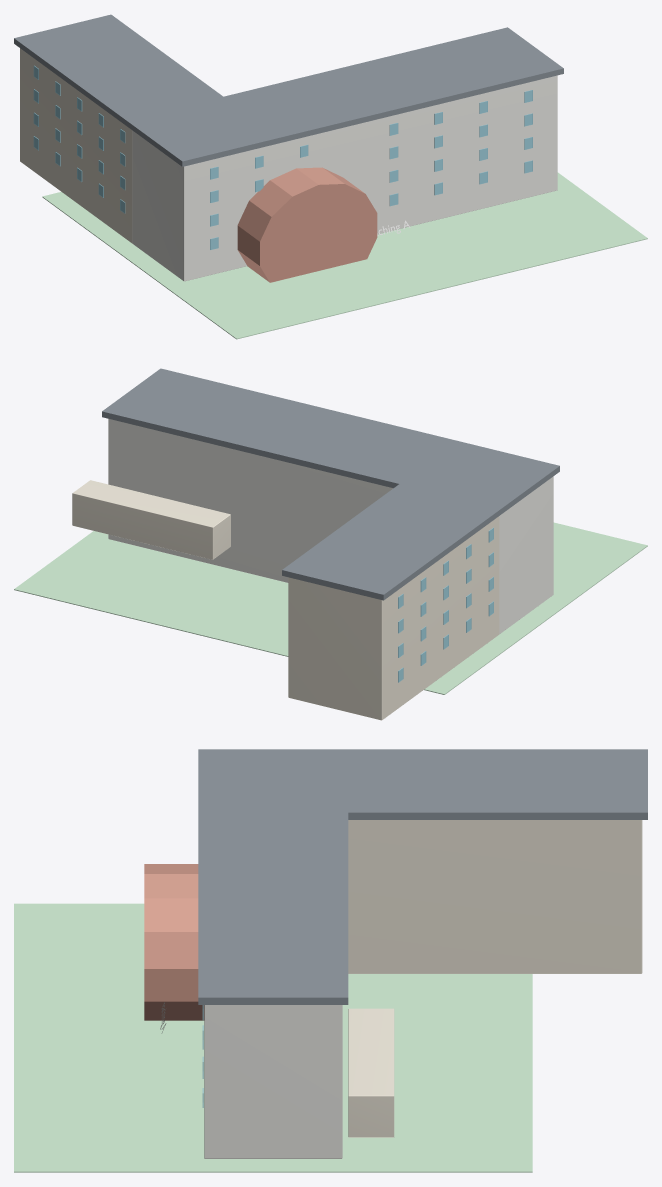
Rendered from teaching_building_a.glb.
3 views of the same model, one above another, from view 1: azimuth 30°, elevation 25°; view 2: azimuth 150°, elevation 25°; view 3: azimuth 270°, elevation 25° (orthographic). The views are drawn at different scales.
Parts seen in each view (by area): view 1: teaching_a_main_wing, teachingbuildinga.001_base_tile, teaching_a_roof_main, teaching_a_faceted_lecture_hall, teaching_a_side_wing, teaching_a_roof_side; view 2: teaching_a_main_wing, teaching_a_roof_main, teachingbuildinga.001_base_tile, teaching_a_side_wing, teaching_a_roof_side, teaching_a_corridor_bridge; view 3: teachingbuildinga.001_base_tile, teaching_a_side_wing, teaching_a_roof_main, teaching_a_roof_side, teaching_a_main_wing, teaching_a_faceted_lecture_hall, teaching_a_corridor_bridge.
Boxes of the visible parts, x1,y1,x2,y2 form: teaching_a_main_wing: (132,75,557,281); teachingbuildinga.001_base_tile: (42,172,647,339); teaching_a_roof_main: (126,27,563,166); teaching_a_faceted_lecture_hall: (237,167,377,282); teaching_a_side_wing: (20,48,132,243); teaching_a_roof_side: (14,14,226,125); teaching_a_main_wing: (108,419,553,634); teaching_a_roof_main: (102,368,559,510); teachingbuildinga.001_base_tile: (14,522,647,694); teaching_a_side_wing: (288,516,499,720); teaching_a_roof_side: (282,481,505,600); teaching_a_corridor_bridge: (72,480,230,559); teachingbuildinga.001_base_tile: (14,903,532,1172); teaching_a_side_wing: (348,820,642,973); teaching_a_roof_main: (198,749,348,1004); teaching_a_roof_side: (336,749,647,819); teaching_a_main_wing: (204,1005,342,1158); teaching_a_faceted_lecture_hall: (144,864,204,1020); teaching_a_corridor_bridge: (348,1008,394,1137).
Bounding box in the file's own units: 55 × 18.7 × 55.
